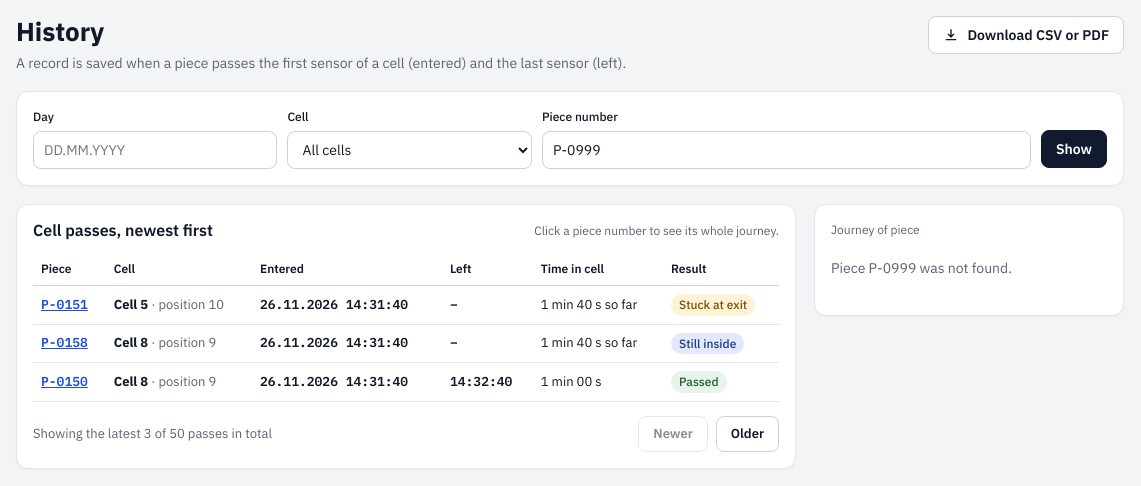
Test: History › clears the 'not found' message when no piece is selected any more
Check: the text "Piece P-0999 was not found." is shown, box [831,259,1012,277]
Clear the field labelled "Piece number": (786, 150) [542,131,1031,169]
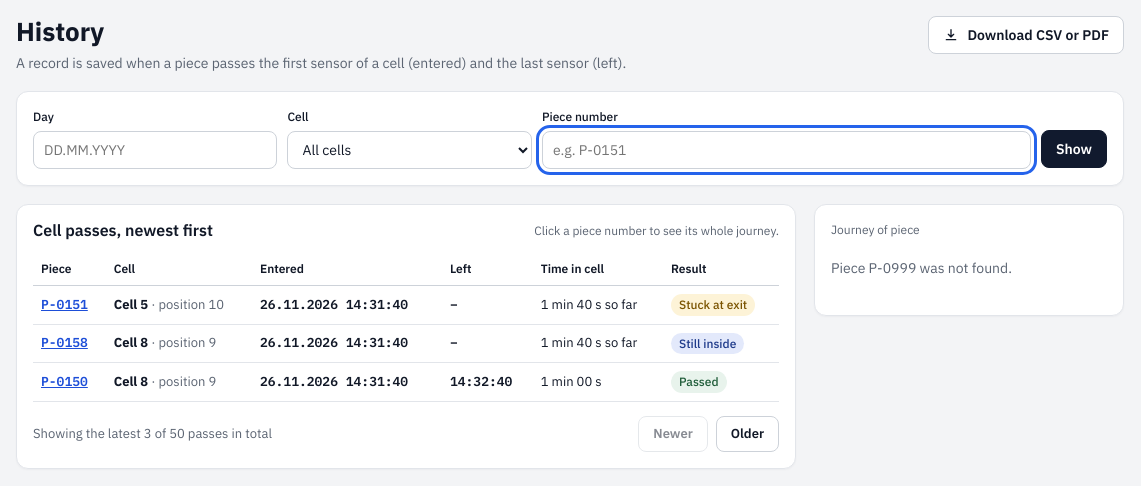
In the field labelled "Day": (155, 150) [33,131,278,169], type "20.11.2026"
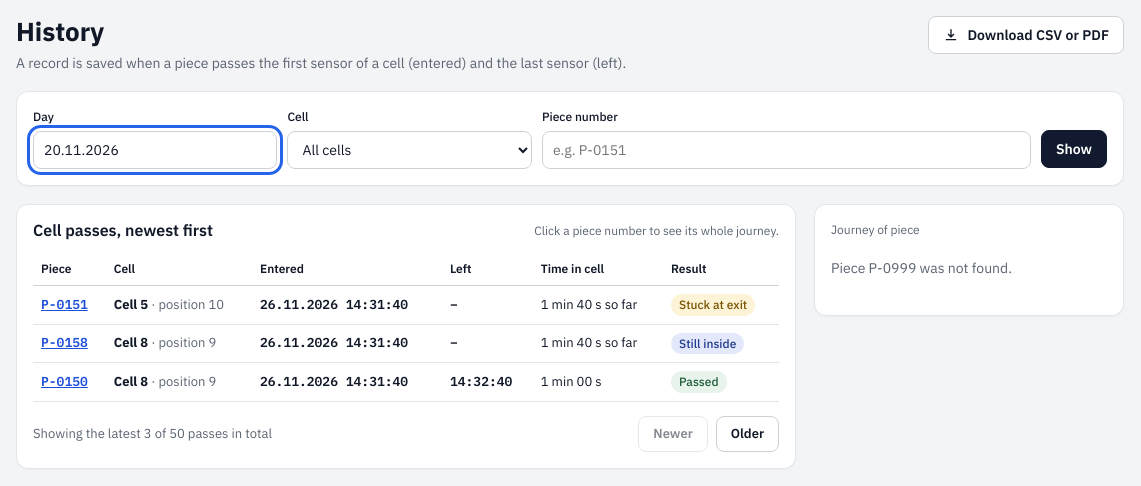
Click the button "Show": (1074, 150) [1041,130,1107,168]
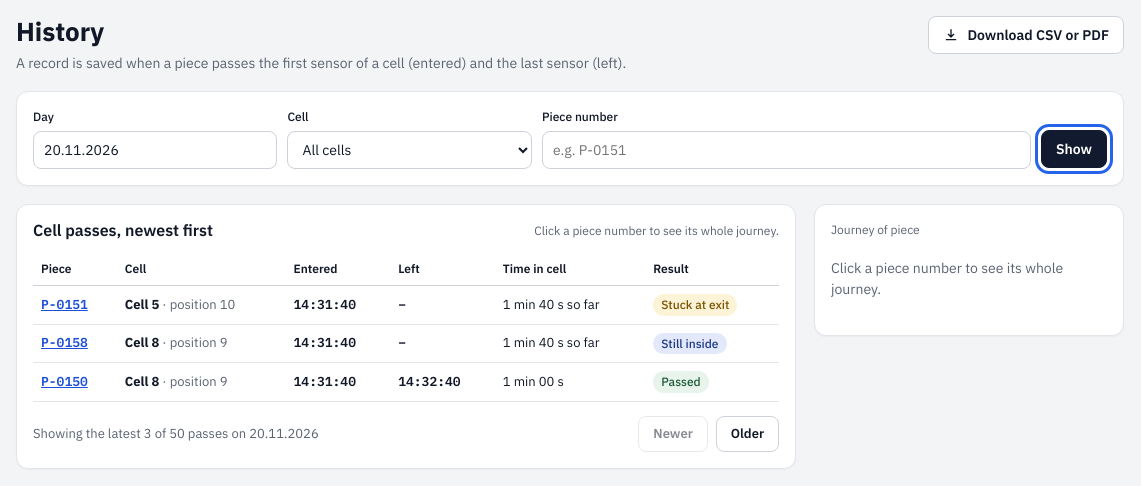
Check: the text "Click a piece number to see its whole journey." below "Journey of piece" is shown, box [831,259,1063,298]
Check: the text "was not found" is gone
